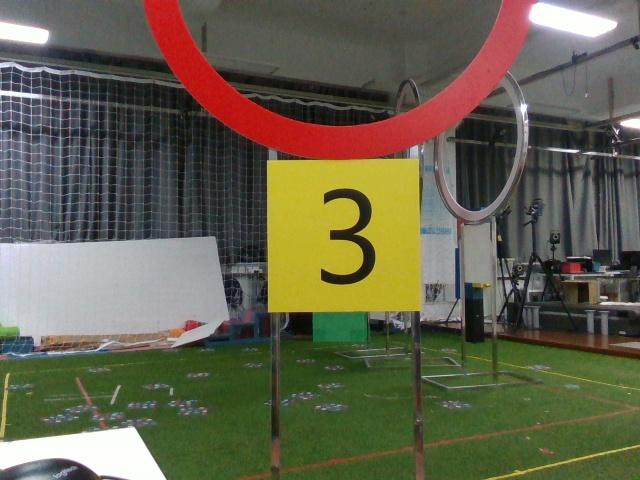target: (277, 168, 410, 304)
